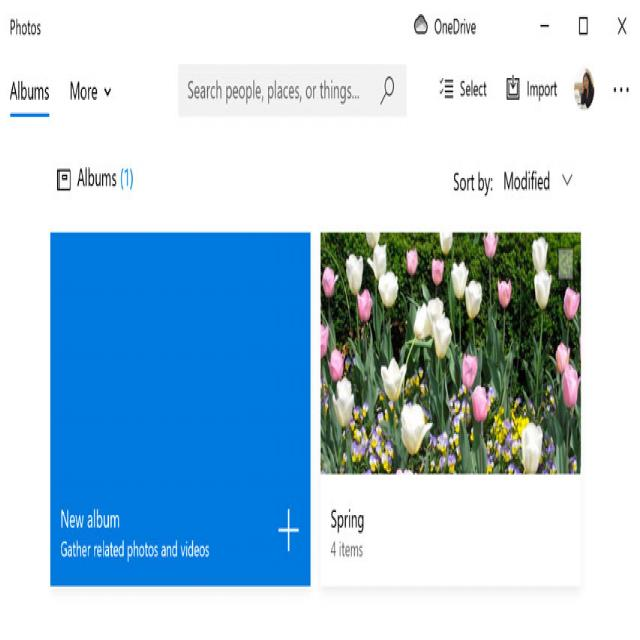button: (50, 231, 311, 586), (320, 231, 580, 586), (498, 158, 580, 206), (410, 3, 483, 48), (503, 69, 565, 113), (434, 70, 492, 113), (65, 68, 118, 112), (6, 70, 54, 112), (569, 6, 598, 46), (606, 8, 636, 45), (531, 8, 559, 43), (608, 72, 636, 107), (574, 66, 594, 111), (376, 73, 396, 108)
field: (179, 66, 406, 116)
